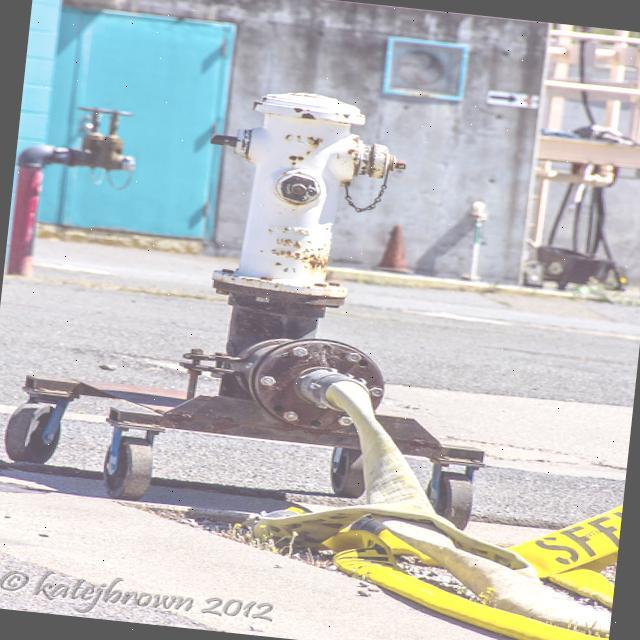fire_hydrant: (184, 80, 414, 376), (5, 87, 150, 292)
